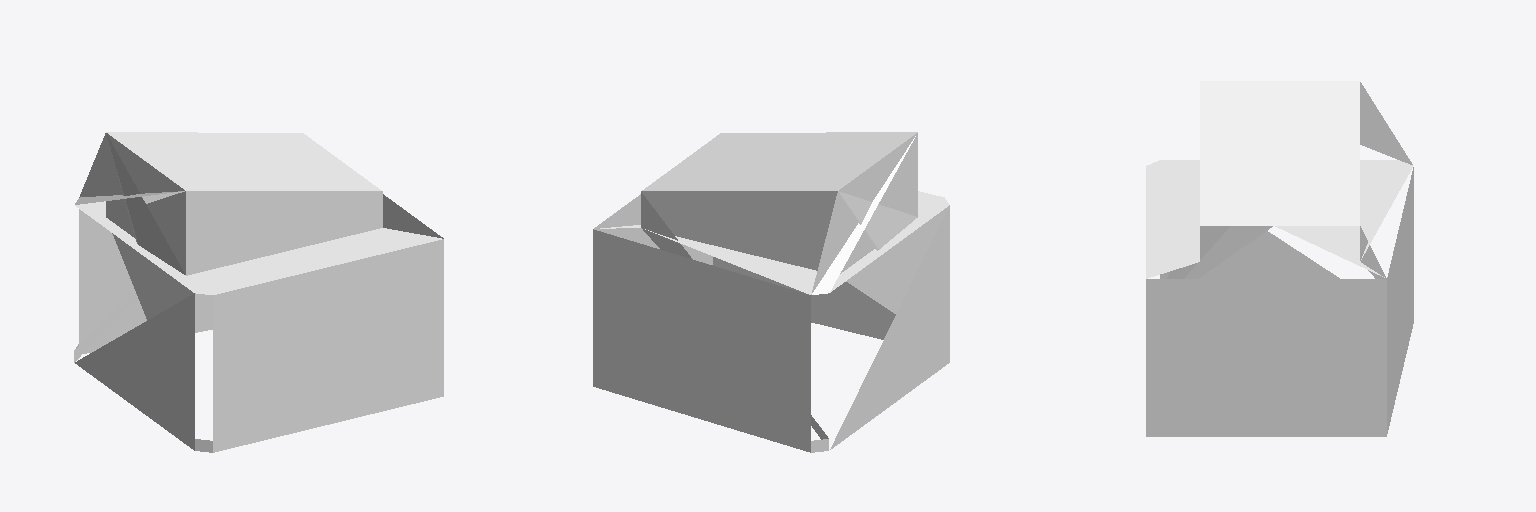
3 renders of one model, left to right at view 1: azimuth 30°, elevation 25°; view 2: azimuth 150°, elevation 25°; view 3: azimuth 270°, elevation 25°, orthographic.
Parts seen in each view (by area): view 1: Amarillo 1, Gris 1; view 2: Amarillo 1, Gris 1; view 3: Amarillo 1, Gris 1.
Boxes of the visible parts, x1=… form: Amarillo 1: x1=74, y1=132, x2=443, y2=452; Gris 1: x1=75, y1=206, x2=194, y2=450; Amarillo 1: x1=593, y1=132, x2=948, y2=452; Gris 1: x1=830, y1=205, x2=949, y2=449; Amarillo 1: x1=1146, y1=81, x2=1413, y2=436; Gris 1: x1=1160, y1=165, x2=1389, y2=278.
Bounding box in the file's own units: 21 × 20 × 20.